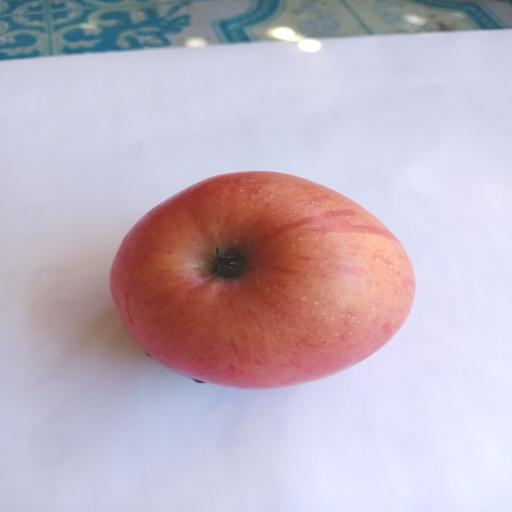apple-ripe: (94, 151, 425, 403)
